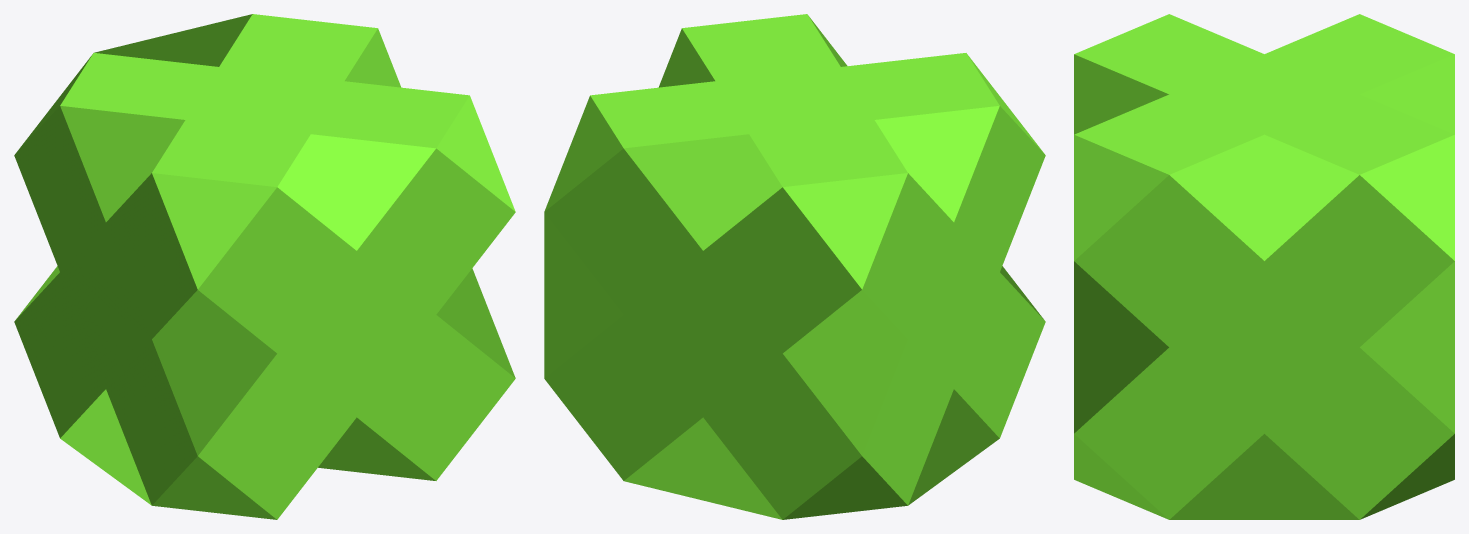
File: fform_9.glb
3 views of the same model, side by side, from view 1: azimuth 30°, elevation 25°; view 2: azimuth 150°, elevation 25°; view 3: azimuth 270°, elevation 25° (orthographic). The views are drawn at different scales.
Parts seen in each view (by area): view 1: FFORM_0; view 2: FFORM_0; view 3: FFORM_0.
Boxes of the visible parts, box(x1,y1,x2,y2) form: FFORM_0: box(14, 14, 515, 519); FFORM_0: box(544, 14, 1045, 519); FFORM_0: box(1074, 14, 1454, 519).
Bounding box in the file's own units: 4 × 4 × 4.
